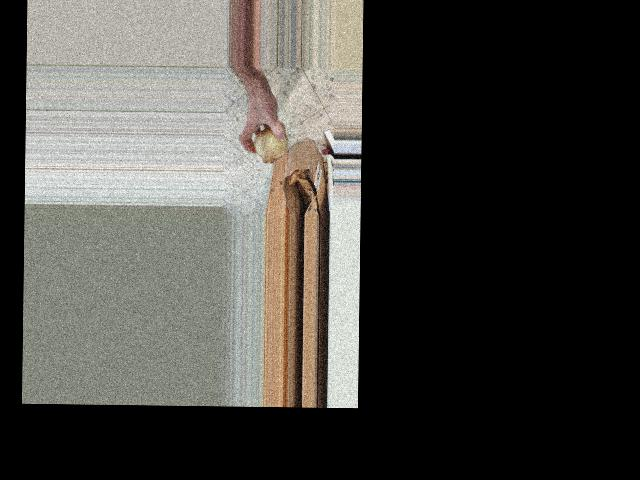onion: (249, 117, 291, 164)
